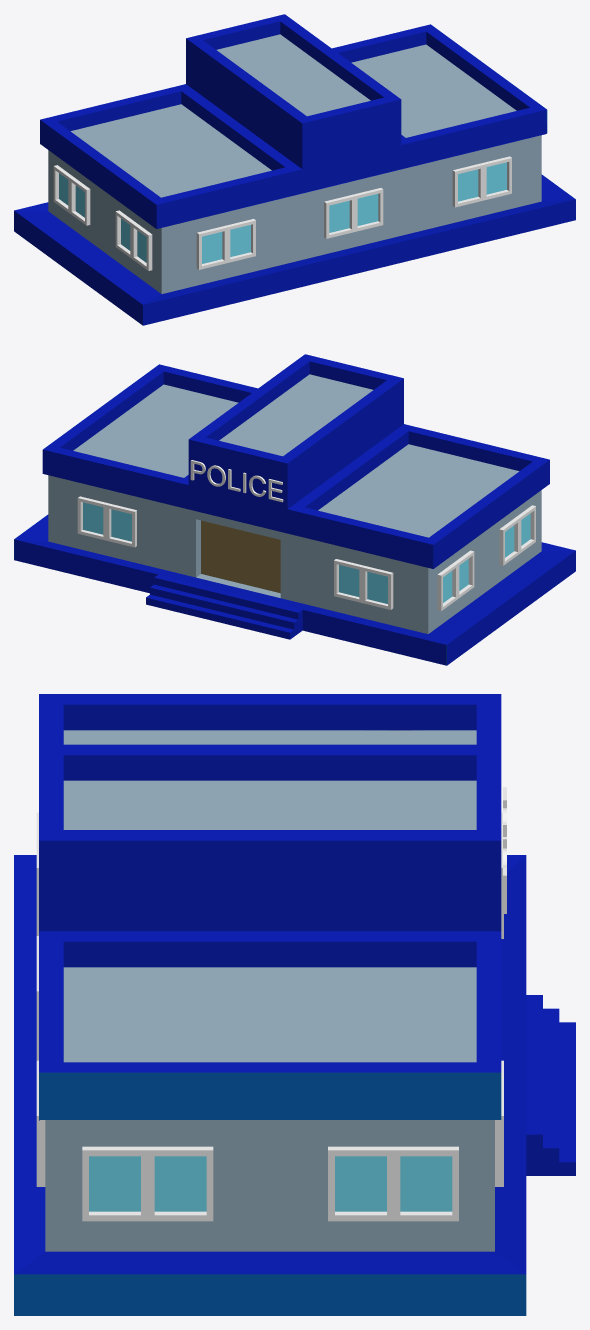
File: PoliceStationFBX.FBX
3 renders of one model, top to bottom at view 1: azimuth 30°, elevation 25°; view 2: azimuth 150°, elevation 25°; view 3: azimuth 270°, elevation 25°, orthographic. The views are drawn at different scales.
Parts seen in each view (by area): view 1: Box001; view 2: Box001; view 3: Box001.
Part boxes in pixels (bbox=[...]): Box001: bbox=[14, 14, 575, 325]; Box001: bbox=[14, 354, 575, 665]; Box001: bbox=[14, 694, 575, 1315].
Size of the model in its own units: 169 by 95.74 by 58.68.
1 material, 1 textured.
